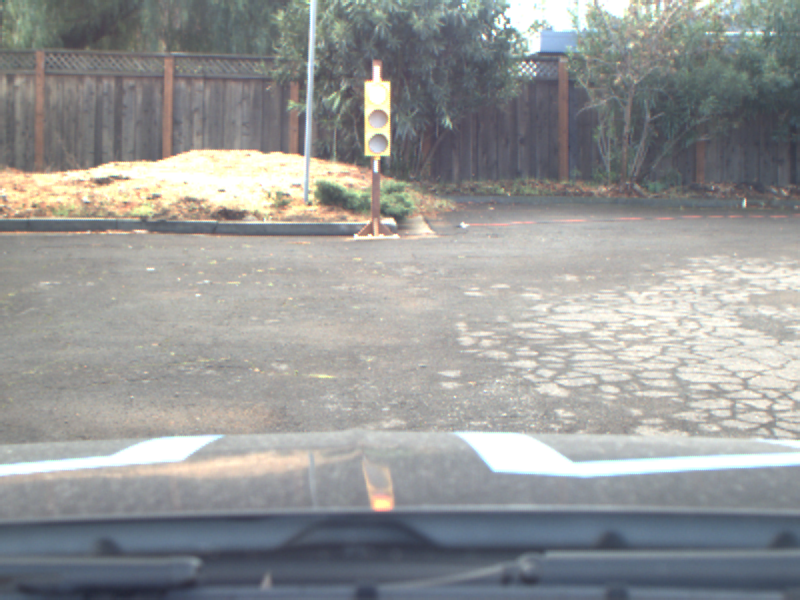Red: (362, 80, 394, 156)
